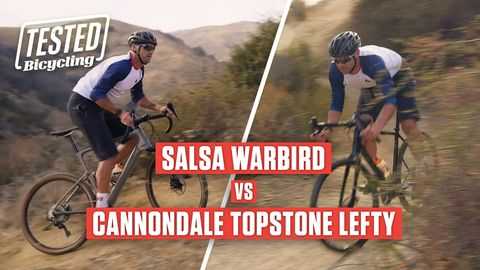helmet: (327, 31, 361, 74), (128, 31, 157, 66)
